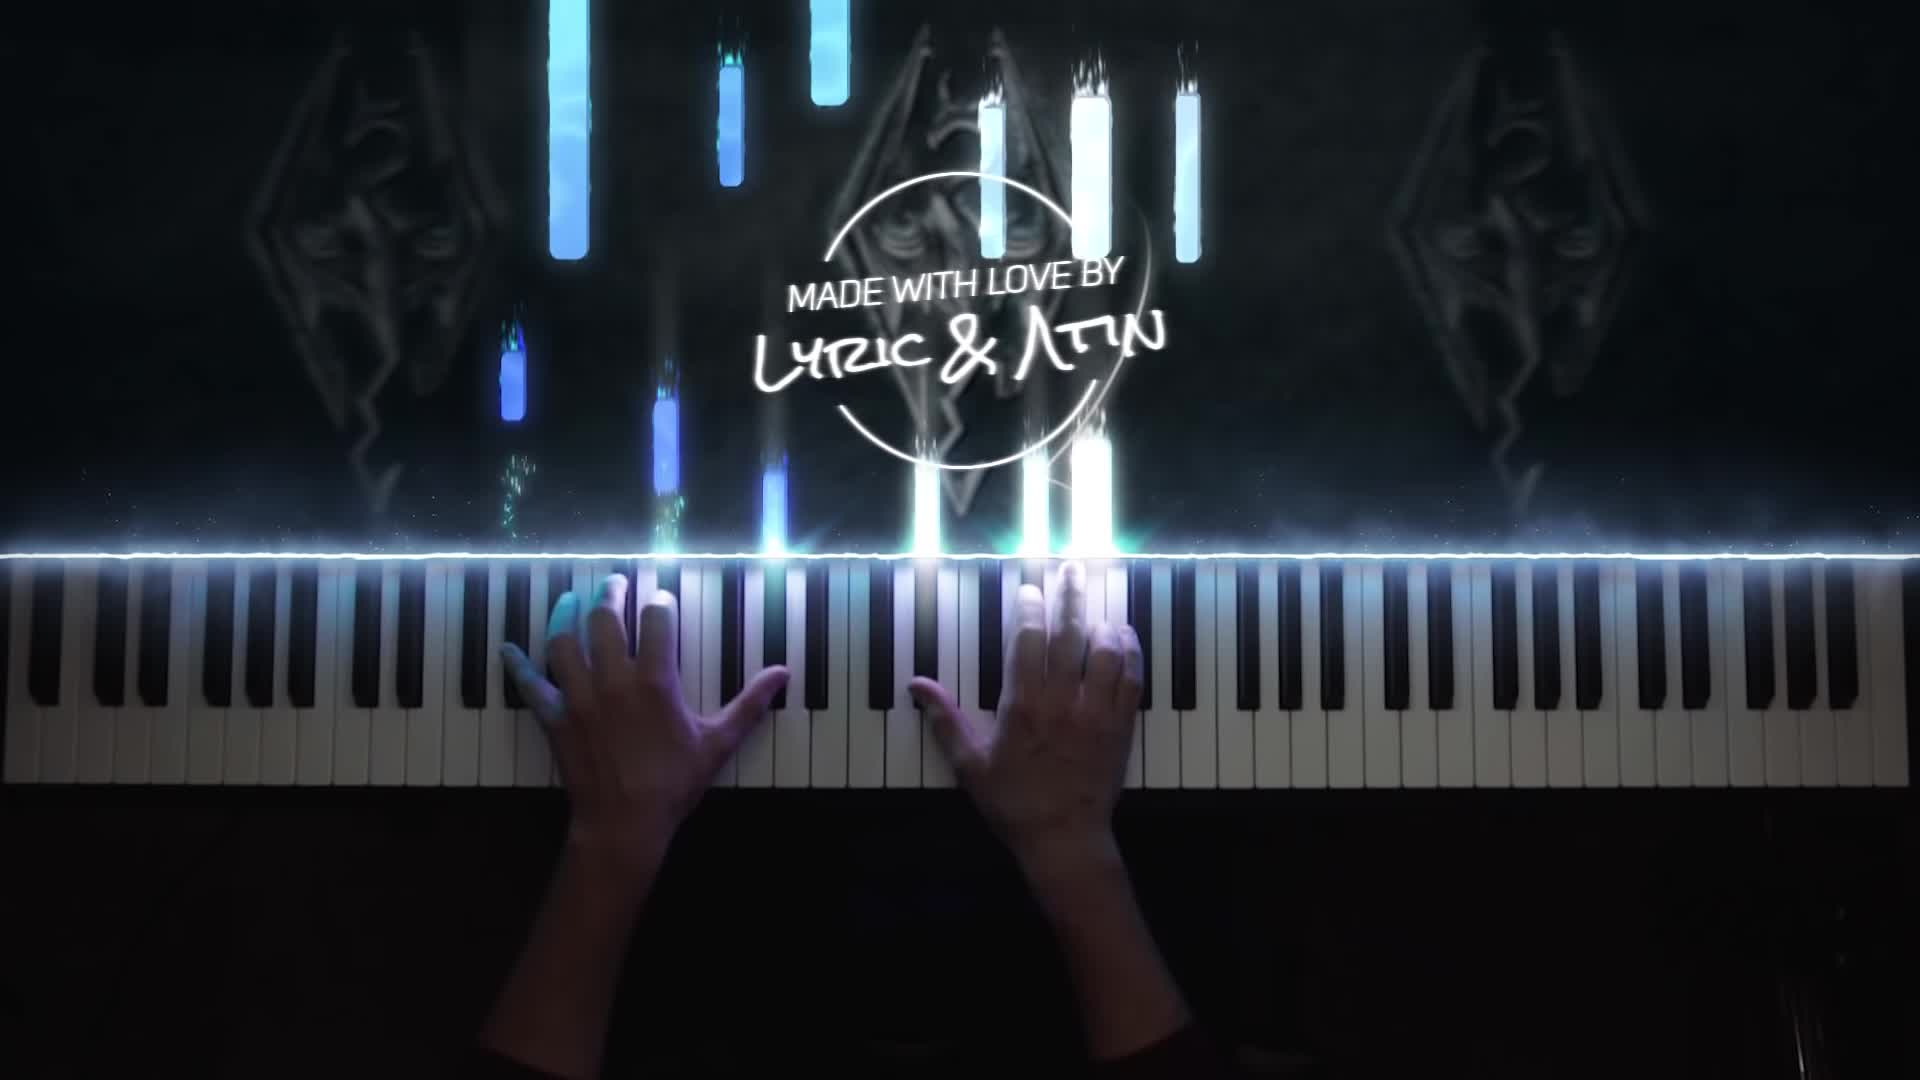left: (498, 572, 793, 811)
right: (909, 560, 1145, 840)
